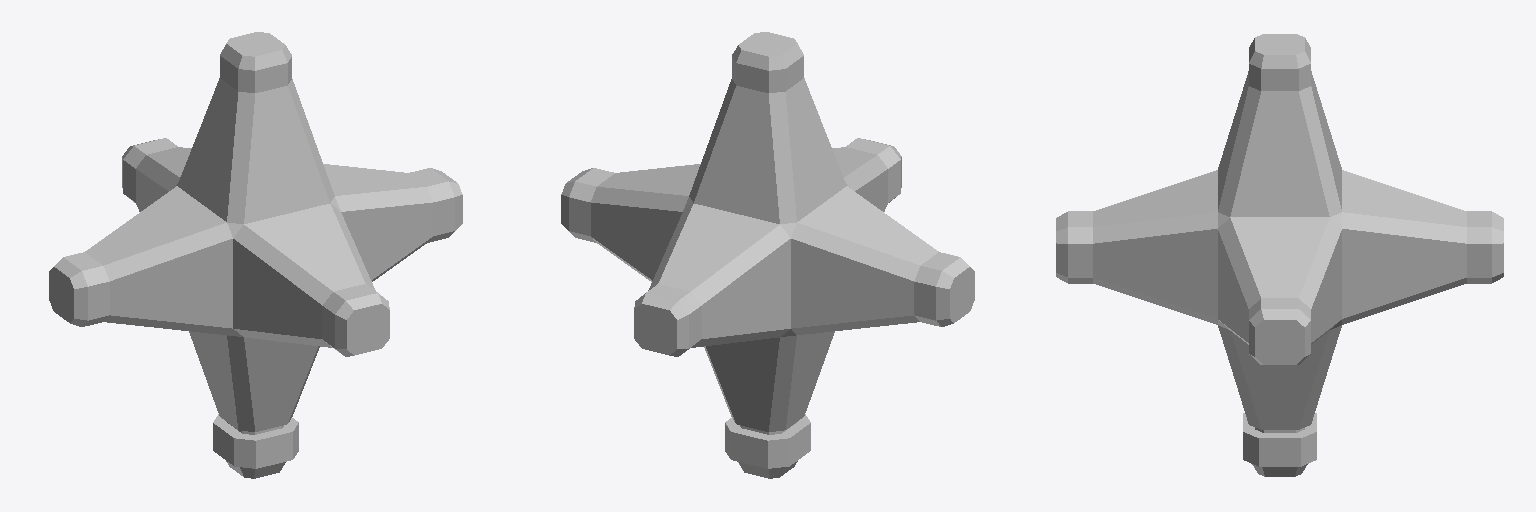
File: military_gun_emplacement_collision.obj
3 renders of one model, left to right at view 1: azimuth 30°, elevation 25°; view 2: azimuth 150°, elevation 25°; view 3: azimuth 270°, elevation 25°, orthographic.
Visible parts, largest first — view 1: Collision; view 2: Collision; view 3: Collision.
Boxes of the visible parts, x1=… form: Collision: x1=49, y1=32, x2=462, y2=478; Collision: x1=561, y1=32, x2=974, y2=478; Collision: x1=1056, y1=34, x2=1503, y2=476.
Size of the model in its own units: 36 by 37.5 by 36.